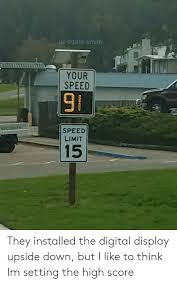speedLimit15: (58, 122, 90, 163)
